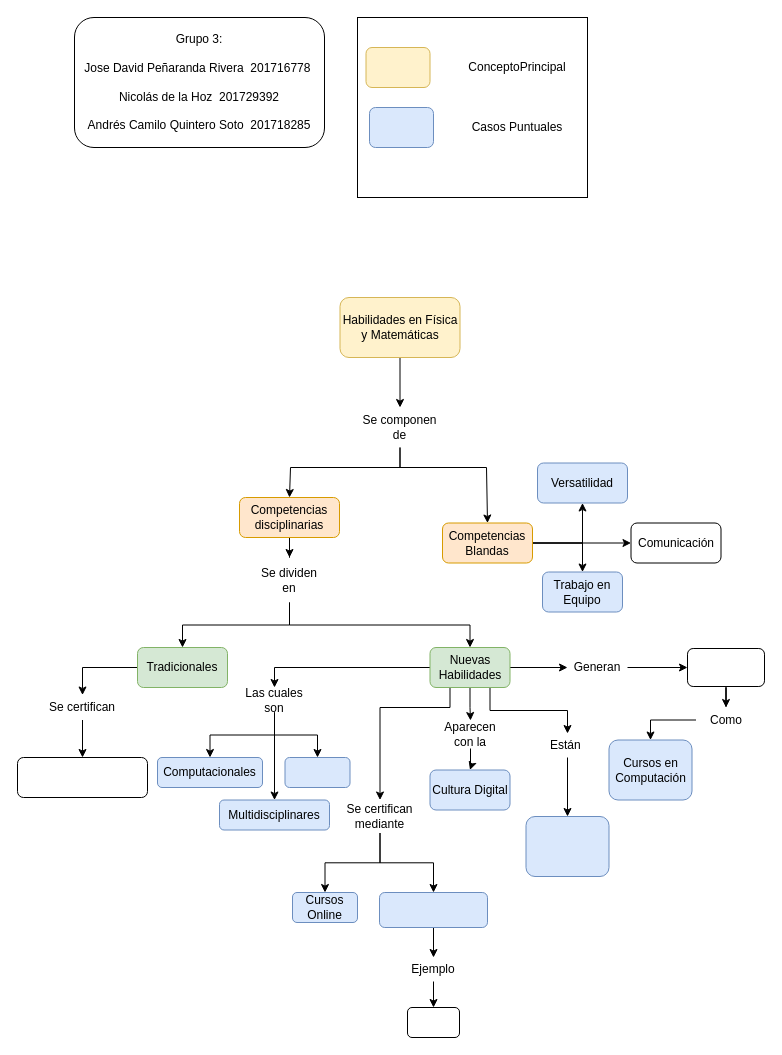
This 782x1055 diagram has some shape labels left out. The box of each missing label's shape, as (x1, y1, x2, y2) in pixels:
Alineados con el futuro de la Profesión: (525, 816, 609, 876)
Cambios en el Currículo: (686, 648, 764, 686)
Convenciones: (356, 16, 588, 198)
Cursos extra en la Universidad: (378, 892, 488, 928)
Grafos: (406, 1006, 460, 1038)
Técnicos: (284, 756, 350, 788)
Universidades (Pregrado, Posgrado): (16, 756, 148, 798)
